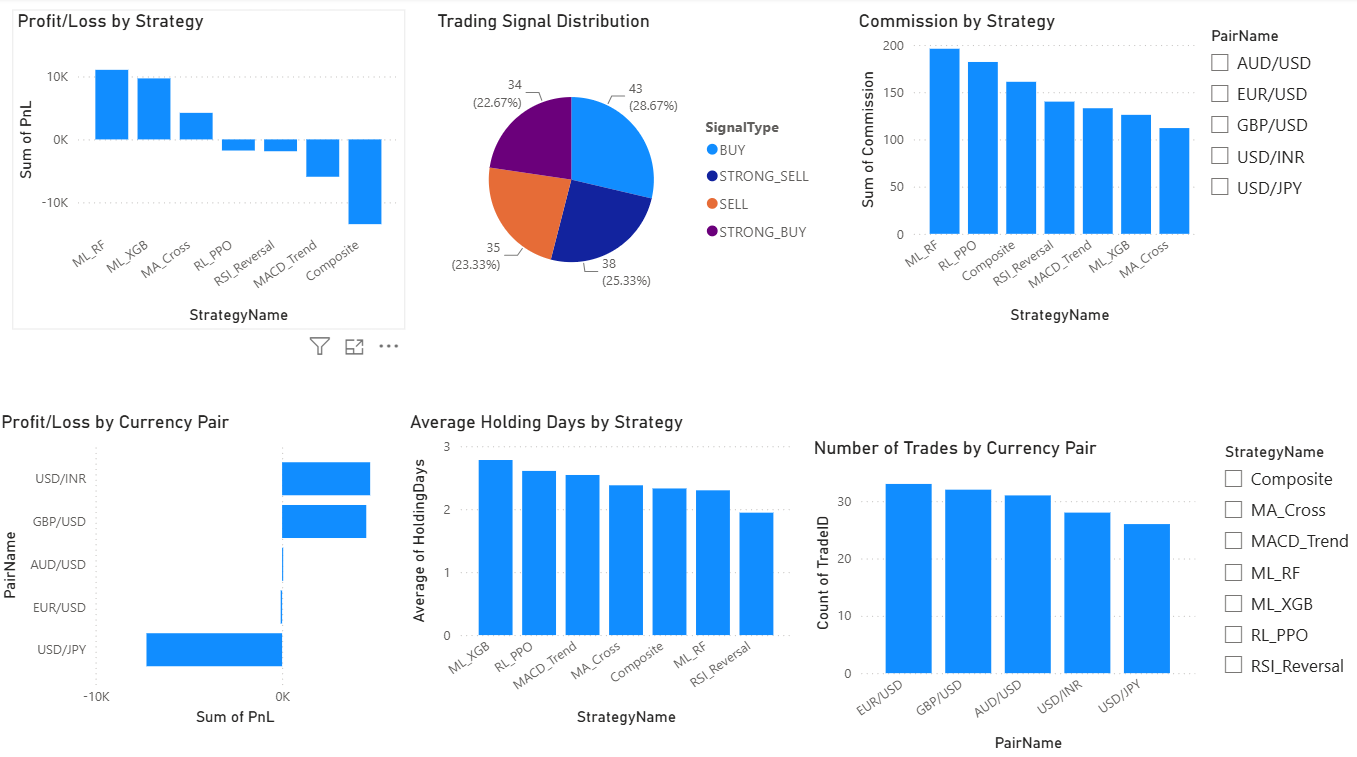

The page's visual inventory and layout, read from the dashboard file:
{"tool":"powerbi","page":{"name":"Trade Performance Analysis","canvas":[1280,720],"ordinal":2},"visuals":[{"type":"clusteredColumnChart","title":"Profit/Loss by Strategy","fields":{"Category":["trade_processed (2).StrategyName"],"Y":["Sum(trade_processed (2).PnL)"]},"box":[15.1,11.6,365.1,297.7],"z":0},{"type":"clusteredBarChart","title":"Profit/Loss by Currency Pair","fields":{"Category":["trade_processed (2).PairName"],"Y":["Sum(trade_processed (2).PnL)"]},"box":[0,384.9,365.1,297.7],"z":1000},{"type":"pieChart","title":"Trading Signal Distribution","fields":{"Category":["trade_processed (2).SignalType"],"Y":["CountNonNull(trade_processed (2).TradeID)"]},"box":[405.8,11.6,365.1,297.7],"z":2000},{"type":"columnChart","title":"Average Holding Days by Strategy","fields":{"Category":["trade_processed (2).StrategyName"],"Y":["Avg(trade_processed (2).HoldingDays)"]},"box":[380.2,384.9,365.1,297.7],"z":3000},{"type":"columnChart","title":"Commission by Strategy","fields":{"Category":["trade_processed (2).StrategyName"],"Y":["Sum(trade_processed (2).Commission)"]},"box":[797.7,11.6,332.6,297.7],"z":4000},{"type":"columnChart","title":"Number of Trades by Currency Pair","fields":{"Category":["trade_processed (2).PairName"],"Y":["CountNonNull(trade_processed (2).TradeID)"]},"box":[755.8,409.3,365.1,297.7],"z":5000},{"type":"slicer","fields":{"Values":["trade_processed (2).StrategyName"]},"box":[1130,409,150,298],"z":6000},{"type":"slicer","fields":{"Values":["trade_processed (2).PairName"]},"box":[1117.4,22.1,162.8,300],"z":7000}]}

Visuals, with their boxes in screenshot pixels (x1, y1, x2, y2), scaled from the page's 1280x720 canvas onto the 1357x757 screenshot:
"Profit/Loss by Strategy" clusteredColumnChart: 16/12/403/325
"Profit/Loss by Currency Pair" clusteredBarChart: 0/405/387/718
"Trading Signal Distribution" pieChart: 430/12/817/325
"Average Holding Days by Strategy" columnChart: 403/405/790/718
"Commission by Strategy" columnChart: 846/12/1198/325
"Number of Trades by Currency Pair" columnChart: 801/430/1188/743
slicer - trade_processed (2).StrategyName: 1198/430/1356/743
slicer - trade_processed (2).PairName: 1185/23/1356/339
